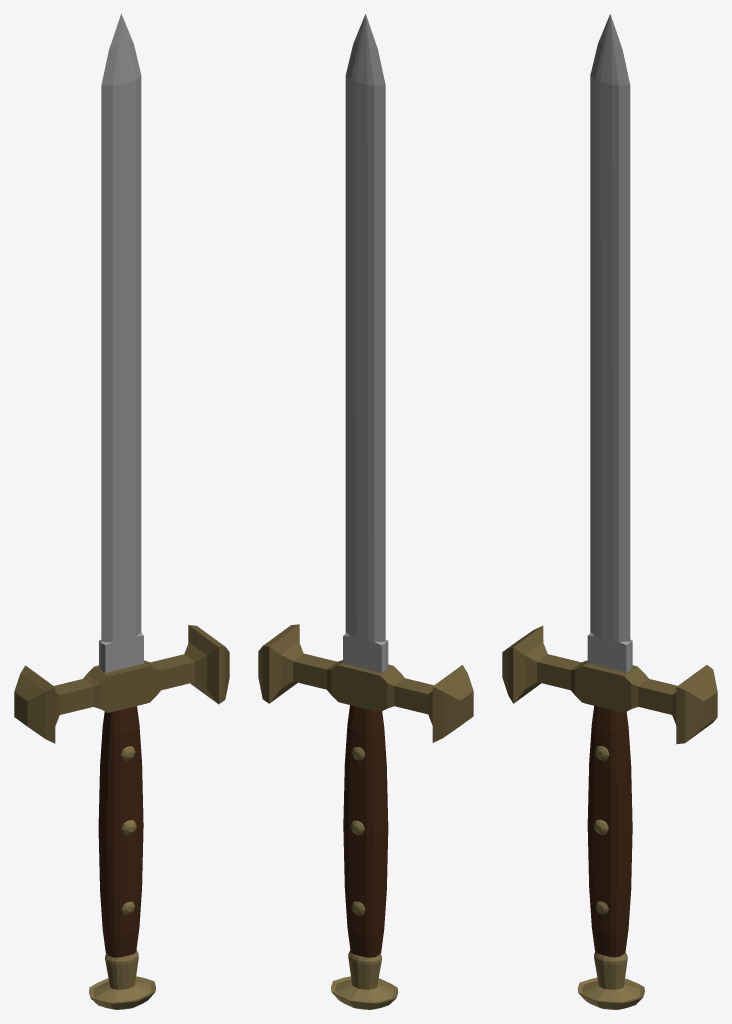
Rendered from regularSwordFS.fbx.
The picture shows the model from 3 angles, left to right: view 1: azimuth 30°, elevation 25°; view 2: azimuth 150°, elevation 25°; view 3: azimuth 330°, elevation 25°; orthographic projection.
Visible parts, largest first — view 1: BladeTwo; view 2: BladeTwo; view 3: BladeTwo.
Boxes of the visible parts, <box> form: BladeTwo: <box>14,14,229,1009</box>; BladeTwo: <box>258,14,473,1009</box>; BladeTwo: <box>502,14,717,1009</box>.
Size of the model in its own units: 209 by 980 by 55.29.
